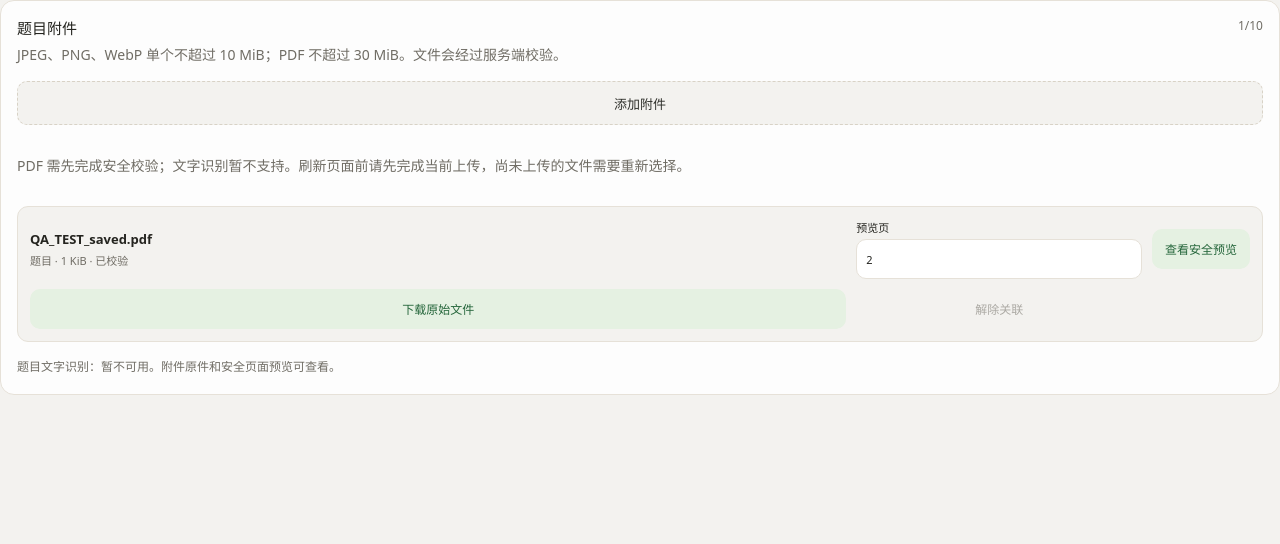
Test case: private attachment uploads › clears a previous preview error when retrying succeeds
The image size is (1280, 544).
Click the button "查看安全预览".
click(1201, 249)  # box [1152, 229, 1250, 269]
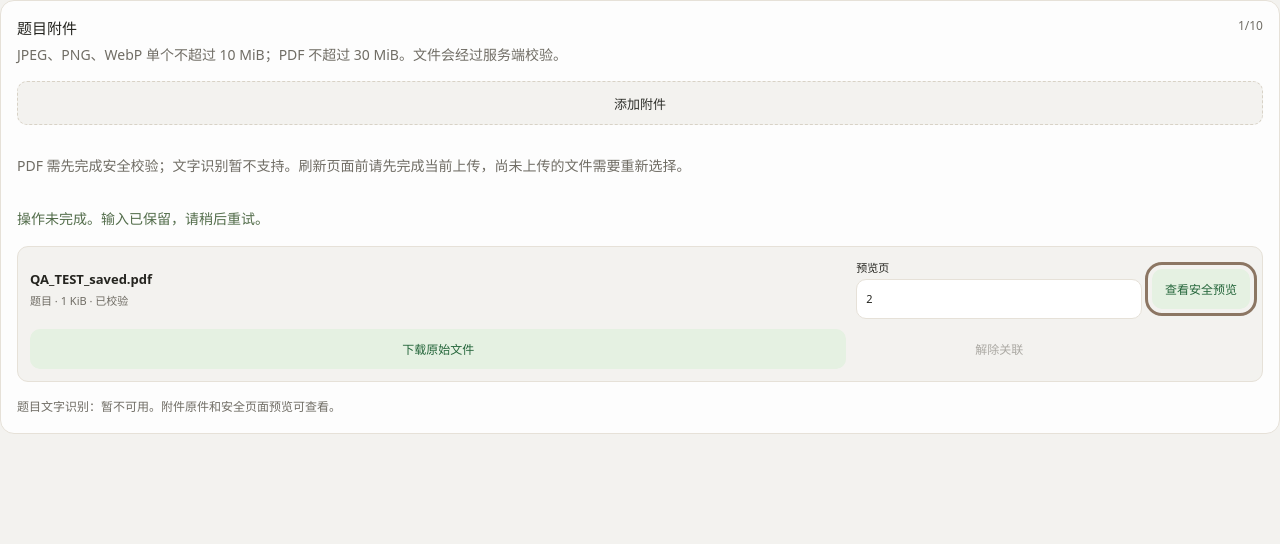
Result: the text "操作未完成。输入已保留，请稍后重试。" is shown at [17, 209, 269, 228]
Click the button "查看安全预览".
click(1201, 289)  # box [1152, 269, 1250, 309]
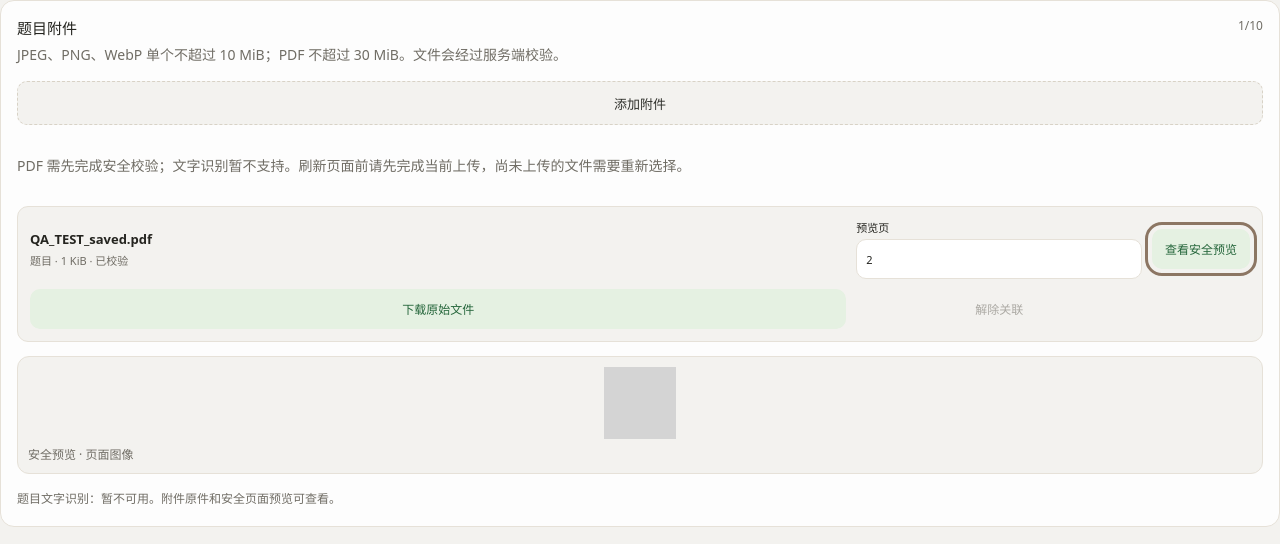
Result: the text "操作未完成。输入已保留，请稍后重试。" is gone
